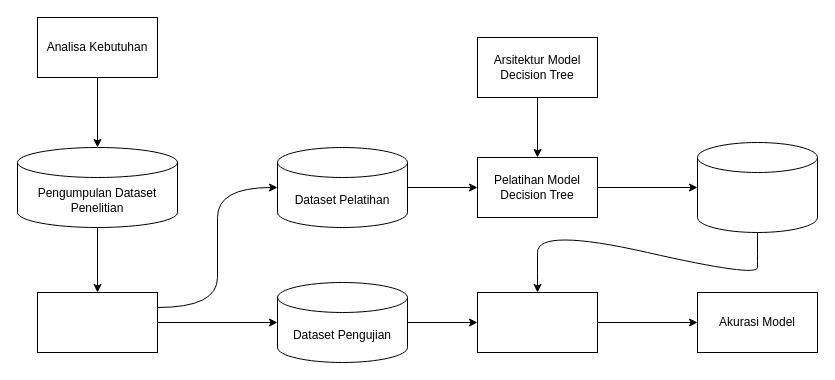
The diagram is 835 pixels wide and 380 high, and some of its shapes have lost their labels. The centre of each missing label's shape, as x and y in pixels:
"Model Decision Tree" belongs at [757,187].
"Pengujian Terhadap Data Testing" belongs at [537,322].
"pra-pemrosesan" belongs at [97,322].
